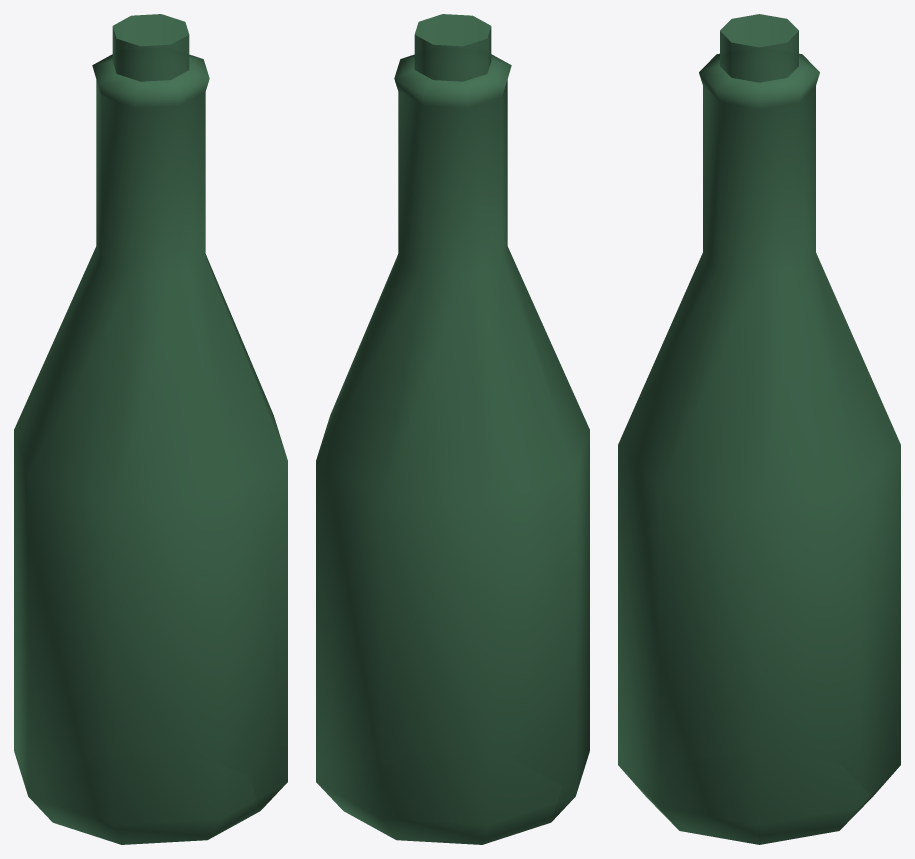
Rendered from Dw_Bottle.glb.
3 views of the same model, side by side, from view 1: azimuth 30°, elevation 25°; view 2: azimuth 150°, elevation 25°; view 3: azimuth 270°, elevation 25° (orthographic).
Visible parts, largest first — view 1: Dw_Bottle; view 2: Dw_Bottle; view 3: Dw_Bottle.
Part boxes in pixels (bbox=[...]): Dw_Bottle: bbox=[14, 14, 287, 844]; Dw_Bottle: bbox=[316, 14, 589, 844]; Dw_Bottle: bbox=[618, 14, 900, 844].
Size of the model in its own units: 0.088 by 0.2631 by 0.088.
